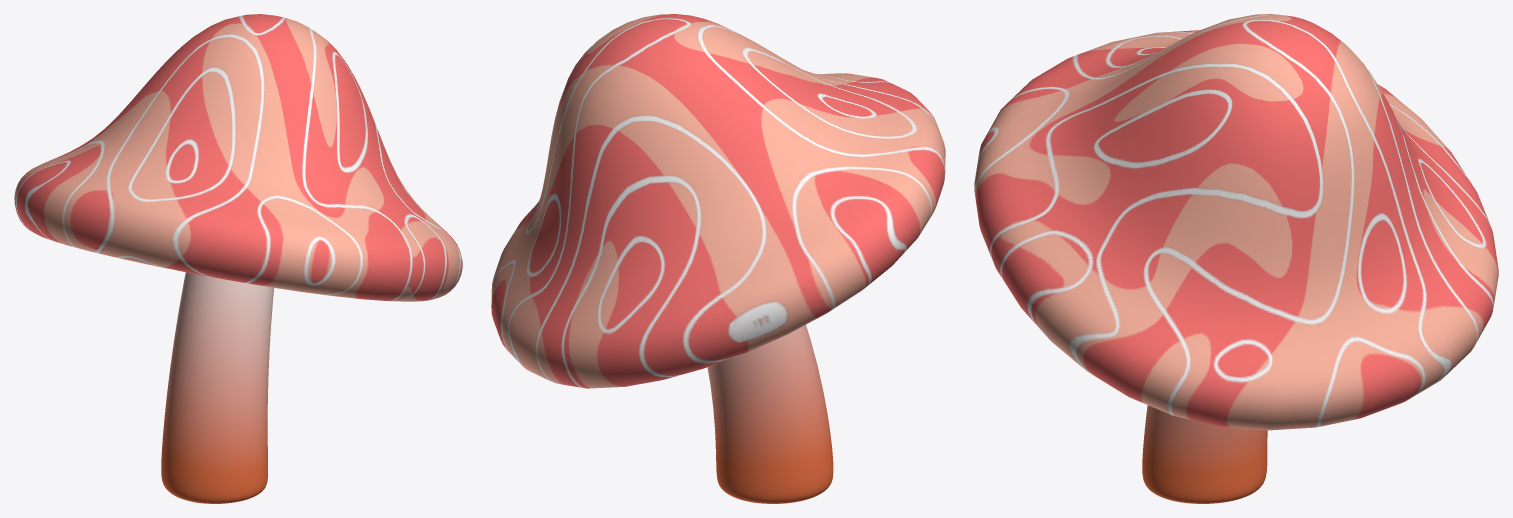
File: mushroom.fbx
The picture shows the model from 3 angles, left to right: view 1: azimuth 30°, elevation 25°; view 2: azimuth 150°, elevation 25°; view 3: azimuth 270°, elevation 25°; orthographic projection. The views are drawn at different scales.
Visible parts, largest first — view 1: mushroom.005, mushroom stem.005; view 2: mushroom.005, mushroom stem.005; view 3: mushroom.005, mushroom stem.005.
Part boxes in pixels (<box>): mushroom.005: <box>14,14,462,301</box>; mushroom stem.005: <box>161,272,274,503</box>; mushroom.005: <box>491,14,945,388</box>; mushroom stem.005: <box>707,325,833,503</box>; mushroom.005: <box>974,14,1498,430</box>; mushroom stem.005: <box>1142,405,1267,503</box>.
Size of the model in its own units: 0.9272 by 1 by 0.9506.
Materials: 2 (2 with a texture image).
